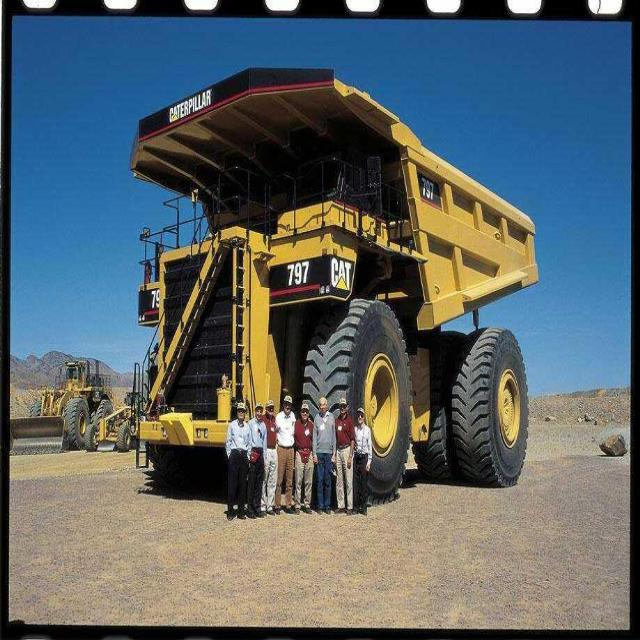buldozerpayloadergrader: (3, 348, 106, 462)
dump_truck: (129, 55, 549, 520)
